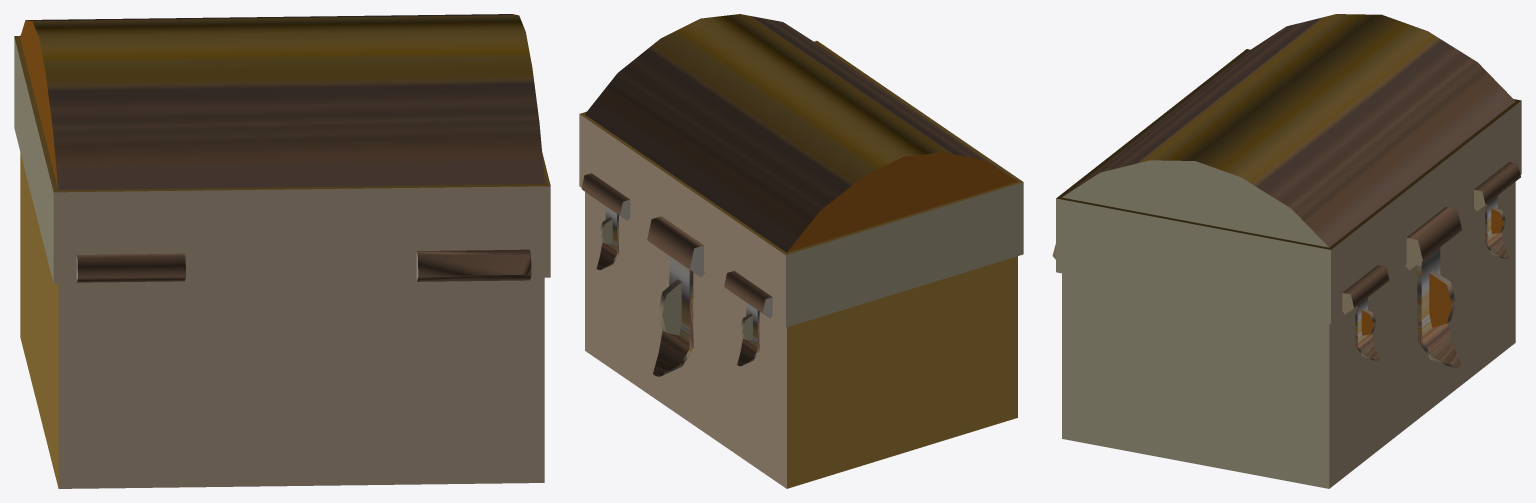
Rendered from poe-stash.glb.
The picture shows the model from 3 angles, left to right: view 1: azimuth 30°, elevation 25°; view 2: azimuth 150°, elevation 25°; view 3: azimuth 270°, elevation 25°; orthographic projection. The views are drawn at different scales.
Visible parts, largest first — view 1: poe-stash_mesh; view 2: poe-stash_mesh; view 3: poe-stash_mesh.
Boxes of the visible parts, bbox=[...] form: poe-stash_mesh: bbox=[14, 14, 550, 488]; poe-stash_mesh: bbox=[579, 14, 1023, 488]; poe-stash_mesh: bbox=[1052, 14, 1521, 488].
Size of the model in its own units: 0.9828 by 0.6907 by 0.9693.
Materials: 1 (1 with a texture image).
